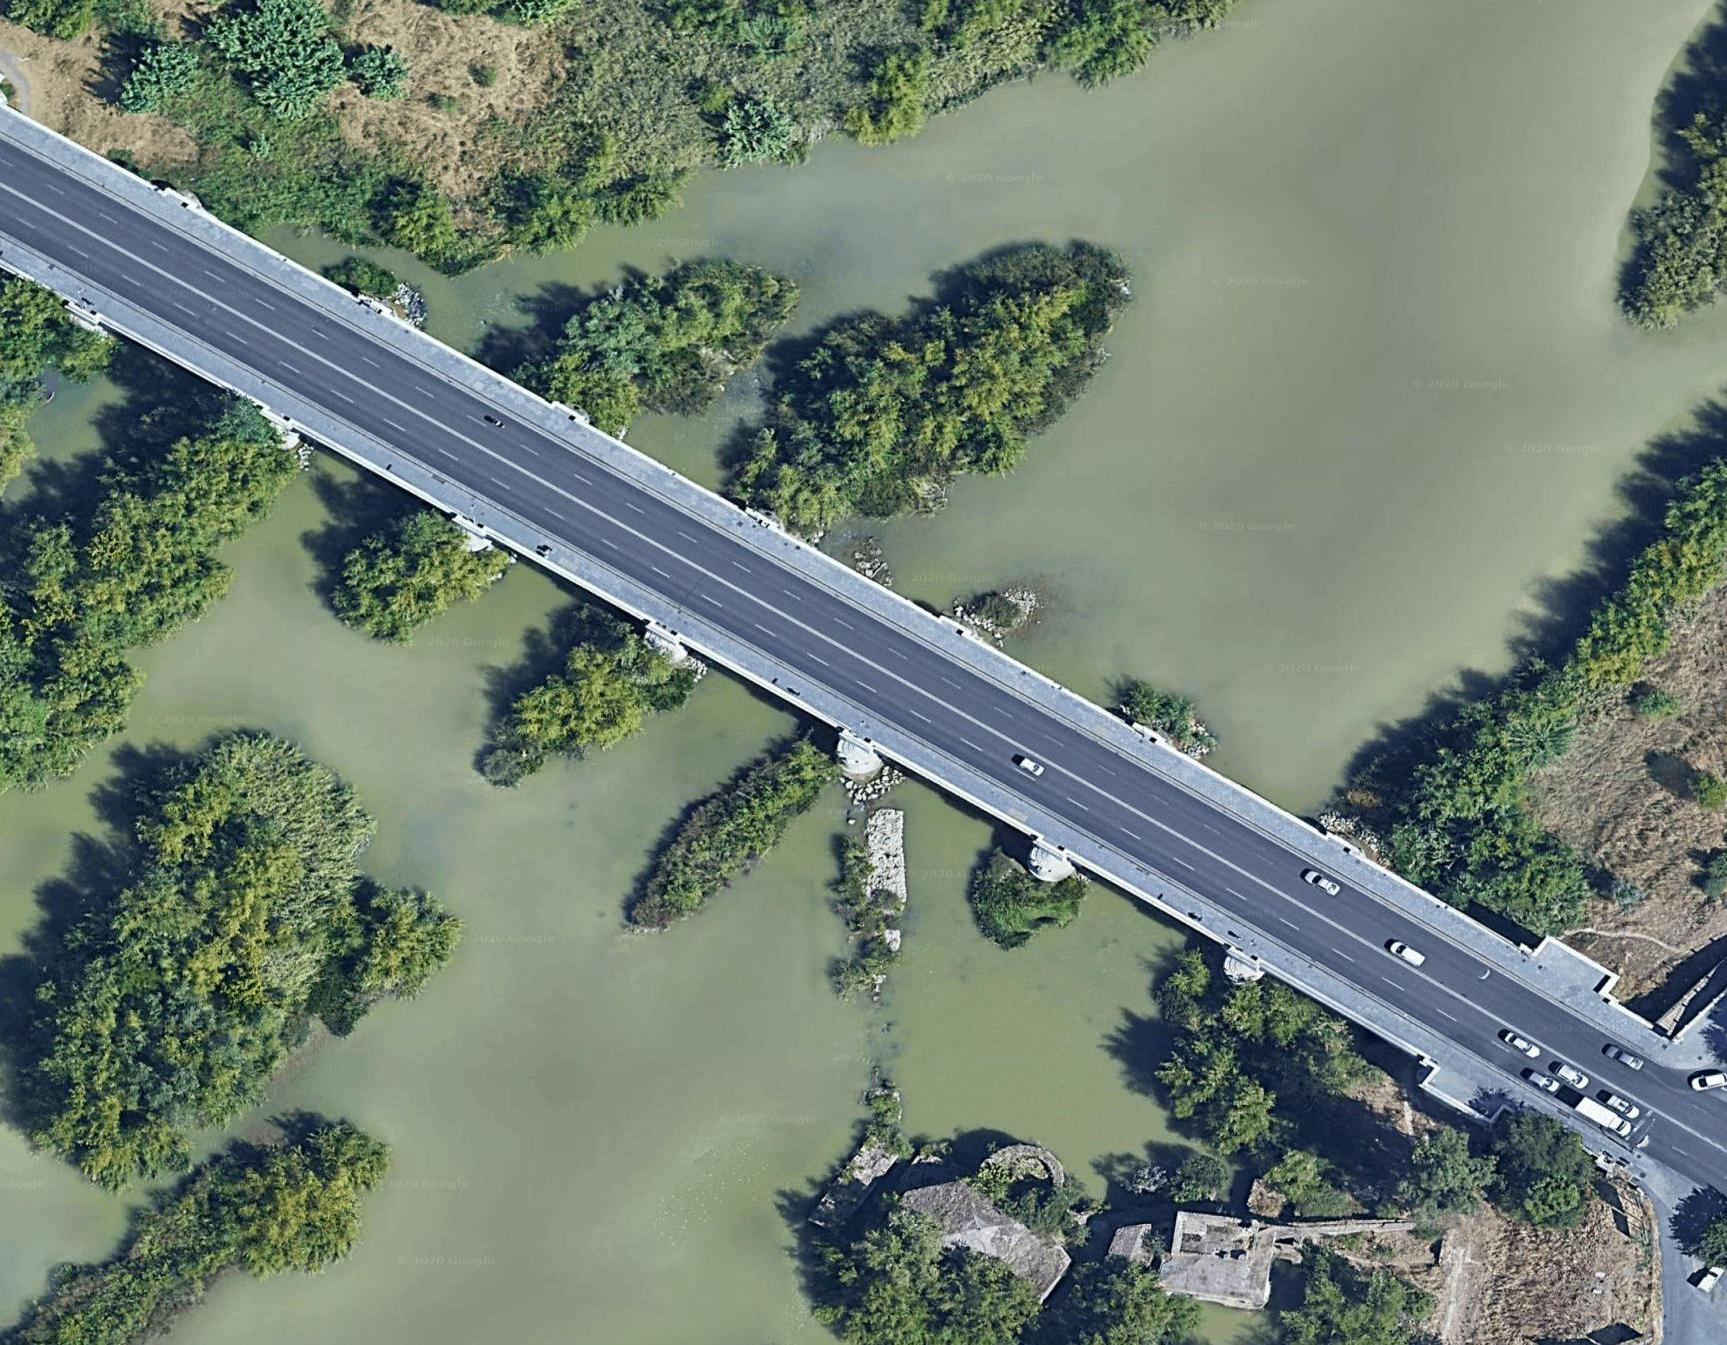bridge: (55, 63, 1597, 1156)
small-vehicle: (1578, 1098, 1625, 1136), (1691, 1069, 1724, 1093), (1015, 749, 1043, 777), (1308, 867, 1336, 895), (1392, 938, 1420, 966), (1510, 1032, 1538, 1060)
